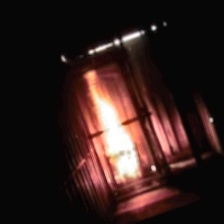fire: (76, 72, 144, 188)
